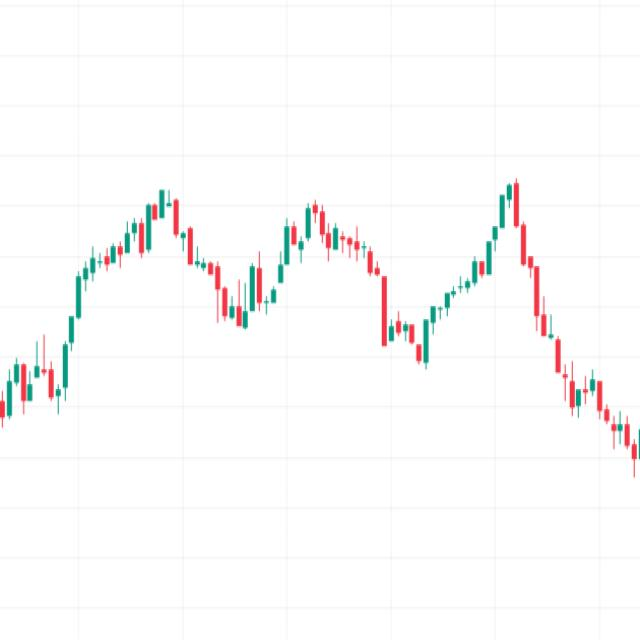Triple-Top: (54, 131, 566, 388)
